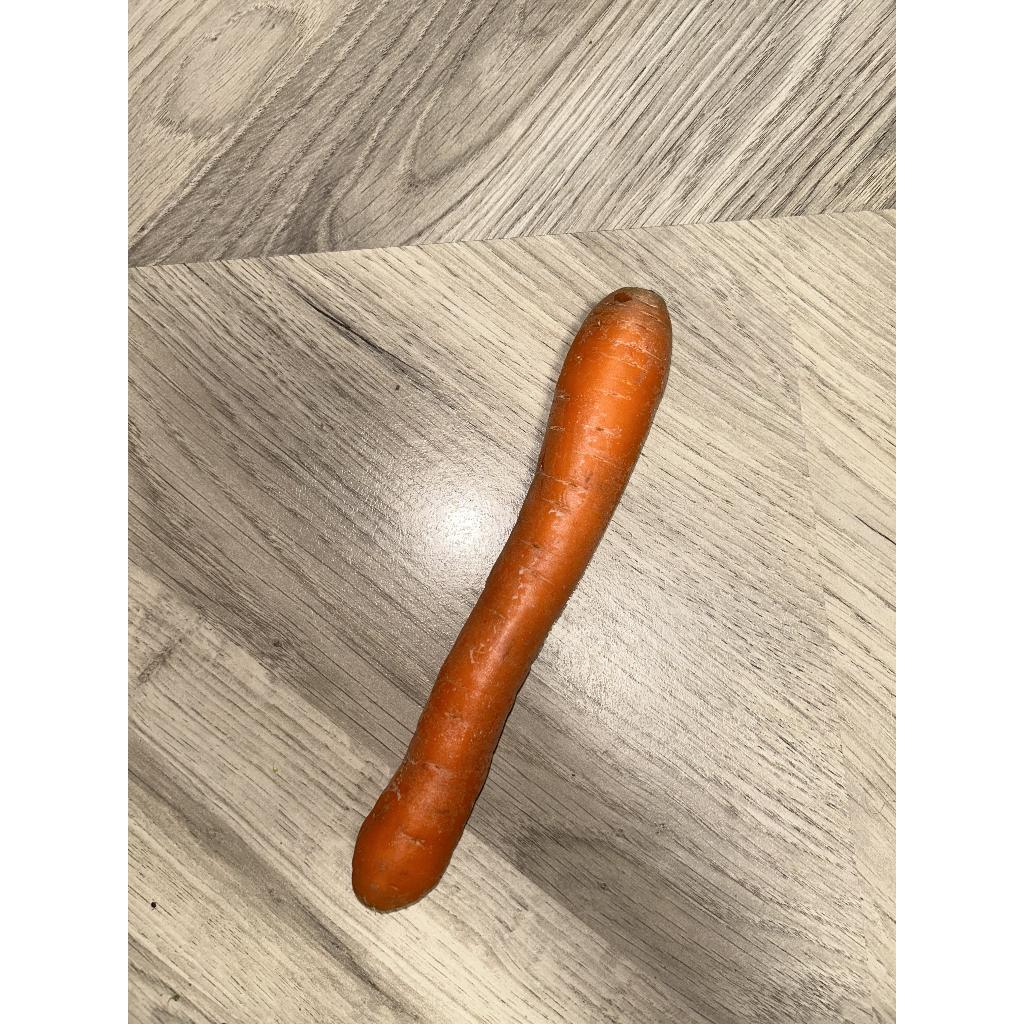carrot: (352, 288, 672, 910)
